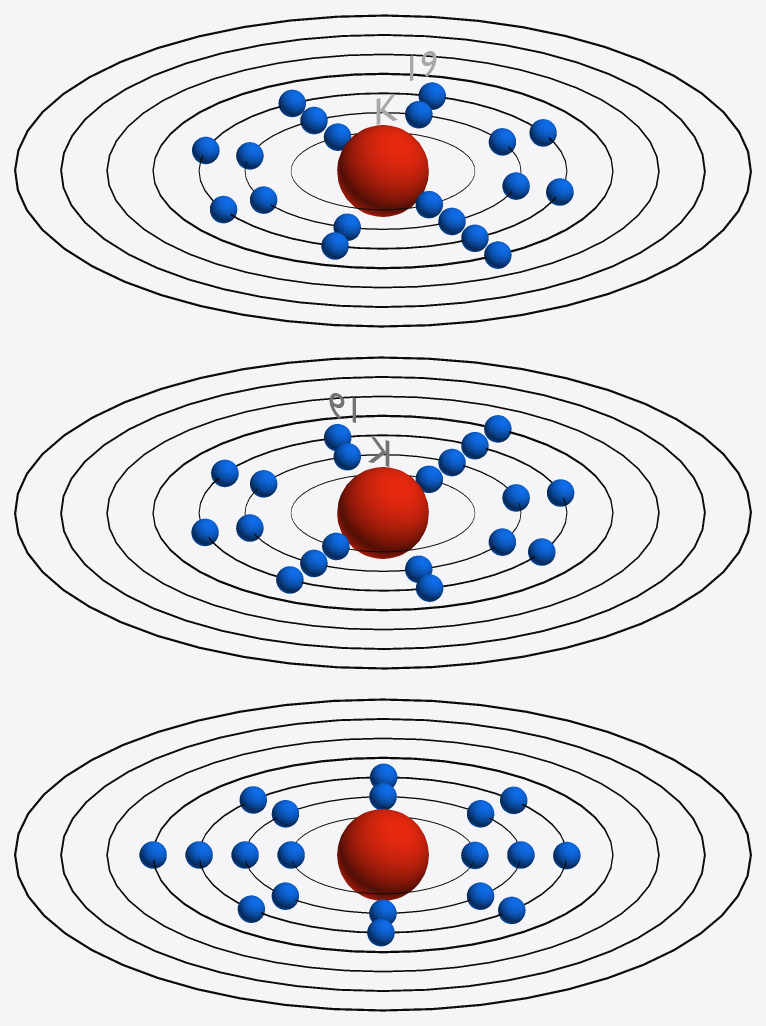
3 views of the same model, one above another, from view 1: azimuth 30°, elevation 25°; view 2: azimuth 150°, elevation 25°; view 3: azimuth 270°, elevation 25° (orthographic).
Visible parts, largest first — view 1: Proton, K2, K3, n7, n6, n5, n4, n3, K1, n2, K4; view 2: Proton, K2, K3, n7, n6, n5, n4, n3, K1, n2, K4; view 3: Proton, K2, n7, K3, n6, n5, n4, n3, K1, n2, K4, n1.
Part boxes in pixels (left/top/right/bottom): Proton: left=337, top=125, right=428, bottom=216; K2: left=236, top=101, right=529, bottom=240; K3: left=192, top=82, right=573, bottom=259; n7: left=14, top=14, right=751, bottom=327; n6: left=60, top=34, right=705, bottom=307; n5: left=106, top=53, right=659, bottom=288; n4: left=152, top=72, right=613, bottom=269; n3: left=198, top=92, right=567, bottom=249; K1: left=323, top=123, right=442, bottom=218; n2: left=244, top=112, right=521, bottom=229; K4: left=484, top=241, right=511, bottom=268; Proton: left=337, top=467, right=428, bottom=558; K2: left=236, top=443, right=529, bottom=582; K3: left=191, top=424, right=574, bottom=601; n7: left=14, top=356, right=751, bottom=669; n6: left=60, top=376, right=705, bottom=649; n5: left=106, top=395, right=659, bottom=630; n4: left=152, top=414, right=613, bottom=611; n3: left=198, top=434, right=567, bottom=591; K1: left=322, top=465, right=442, bottom=560; n2: left=244, top=454, right=521, bottom=571; K4: left=484, top=415, right=511, bottom=442; Proton: left=337, top=809, right=428, bottom=900; K2: left=231, top=783, right=534, bottom=923; n7: left=14, top=698, right=751, bottom=1011; K3: left=185, top=763, right=580, bottom=946; n6: left=60, top=718, right=705, bottom=991; n5: left=106, top=737, right=659, bottom=972; n4: left=153, top=756, right=613, bottom=953; n3: left=199, top=776, right=566, bottom=933; K1: left=277, top=841, right=488, bottom=869; n2: left=245, top=796, right=520, bottom=913; K4: left=139, top=841, right=166, bottom=868; n1: left=292, top=817, right=473, bottom=894.
Bounding box in the file's own units: 802 × 180 × 802.
